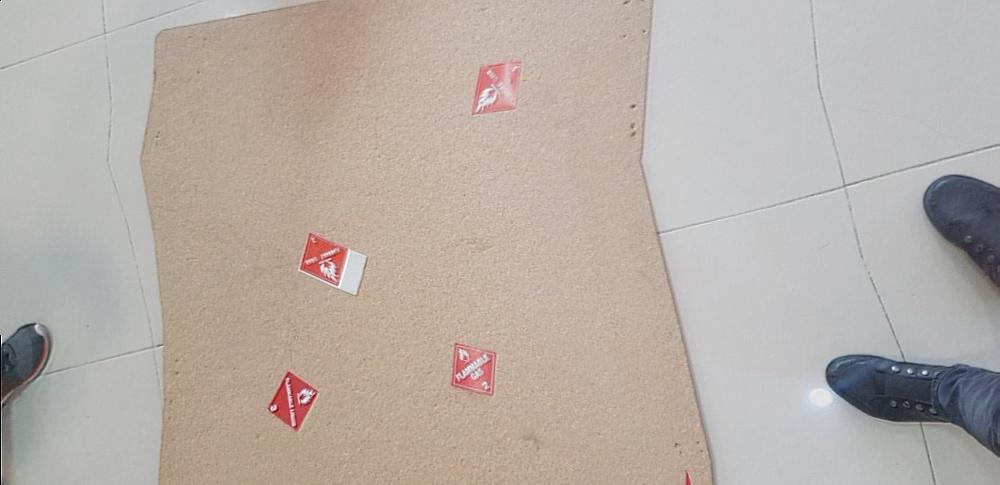flammable: (292, 229, 356, 287), (265, 372, 322, 432), (468, 61, 526, 118), (444, 343, 502, 396)
